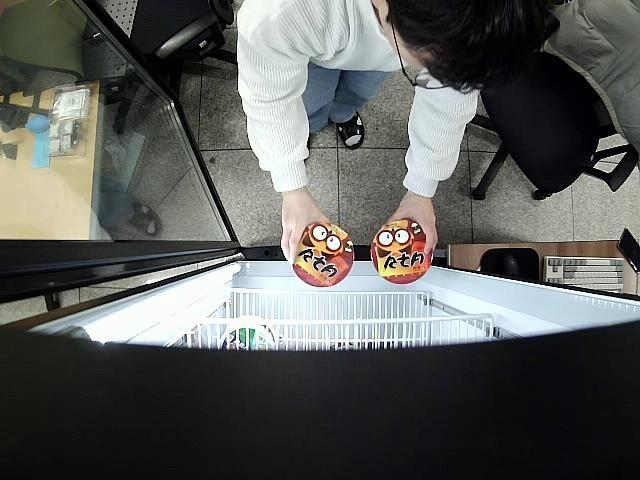05_nuguri_L: (370, 218, 435, 283), (293, 220, 354, 286)
